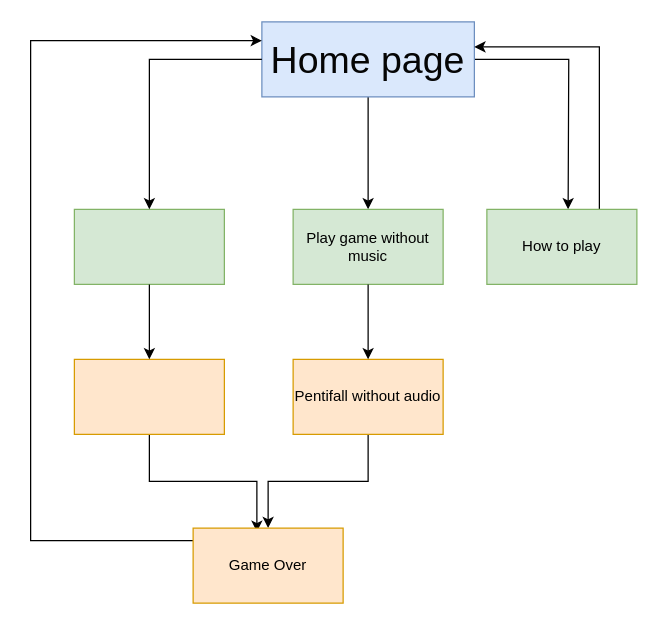
This 659x625 diagram has some shape labels left out. The centre of each missing label's shape, as x and y in pixels:
"Pentifall with audio" belongs at [148,396].
"Play Game with audio" belongs at [148,246].
